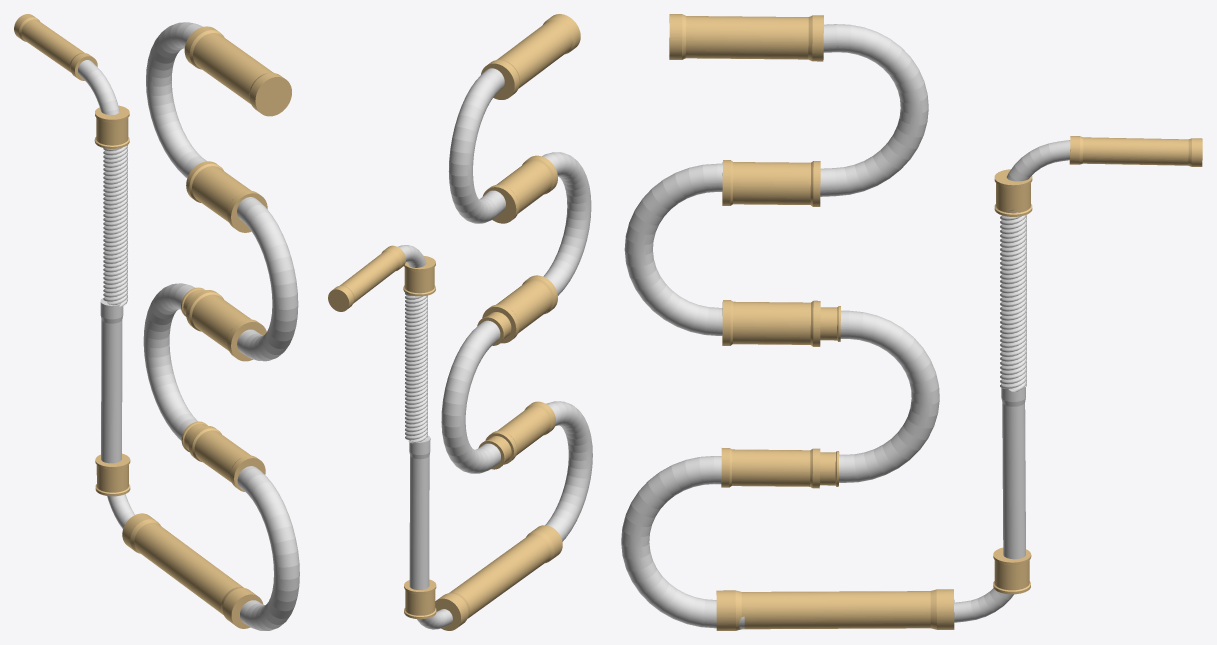
Rendered from wirepuzcommid.fbx.
The picture shows the model from 3 angles, left to right: view 1: azimuth 30°, elevation 25°; view 2: azimuth 150°, elevation 25°; view 3: azimuth 270°, elevation 25°; orthographic projection. The views are drawn at different scales.
Visible parts, largest first — view 1: Cube.064, Cube.062, Cube.061, Cube.073, Cube.071, Cube.059, Cube.014, Cube.066, Cube.057, Cube.072, Cube.056, Cube.068 (+4 smaller); view 2: Cube.064, Cube.071, Cube.059, Cube.073, Cube.061, Cube.062, Cube.014, Cube.066, Cube.072, Cube.057, Cube.068, Cube.056 (+6 smaller); view 3: Cube.064, Cube.071, Cube.059, Cube.062, Cube.061, Cube.073, Cube.014, Cube.057, Cube.072, Cube.066, Cube.056, Cube.068 (+4 smaller).
Part boxes in pixels (left/top/right/bottom): Cube.064: left=122, top=513, right=263, bottom=628; Cube.062: left=237, top=466, right=299, bottom=630; Cube.061: left=237, top=197, right=298, bottom=361; Cube.073: left=184, top=26, right=291, bottom=116; Cube.071: left=146, top=22, right=206, bottom=178; Cube.059: left=143, top=283, right=198, bottom=440; Cube.014: left=103, top=145, right=127, bottom=306; Cube.066: left=100, top=297, right=123, bottom=463; Cube.057: left=186, top=290, right=266, bottom=361; Cube.072: left=186, top=161, right=267, bottom=232; Cube.056: left=189, top=426, right=265, bottom=491; Cube.068: left=14, top=14, right=97, bottom=80; Cube.064: left=435, top=525, right=562, bottom=630; Cube.071: left=448, top=68, right=505, bottom=223; Cube.059: left=441, top=320, right=500, bottom=473; Cube.073: left=481, top=14, right=580, bottom=99; Cube.061: left=542, top=152, right=591, bottom=295; Cube.062: left=545, top=401, right=592, bottom=541; Cube.014: left=405, top=293, right=427, bottom=443; Cube.066: left=409, top=435, right=430, bottom=589; Cube.072: left=482, top=155, right=557, bottom=223; Cube.057: left=482, top=275, right=557, bottom=343; Cube.068: left=328, top=245, right=405, bottom=311; Cube.056: left=485, top=401, right=555, bottom=464; Cube.064: left=716, top=589, right=954, bottom=630; Cube.071: left=820, top=24, right=928, bottom=196; Cube.059: left=839, top=310, right=939, bottom=482; Cube.062: left=621, top=456, right=744, bottom=628; Cube.061: left=624, top=163, right=722, bottom=335; Cube.073: left=669, top=14, right=823, bottom=61; Cube.014: left=1000, top=209, right=1026, bottom=391; Cube.057: left=722, top=300, right=820, bottom=346; Cube.072: left=722, top=160, right=820, bottom=206; Cube.066: left=1001, top=383, right=1025, bottom=559; Cube.056: left=721, top=448, right=820, bottom=488; Cube.068: left=1069, top=136, right=1202, bottom=166.
Size of the model in its own units: 221 by 3063 by 2624.
